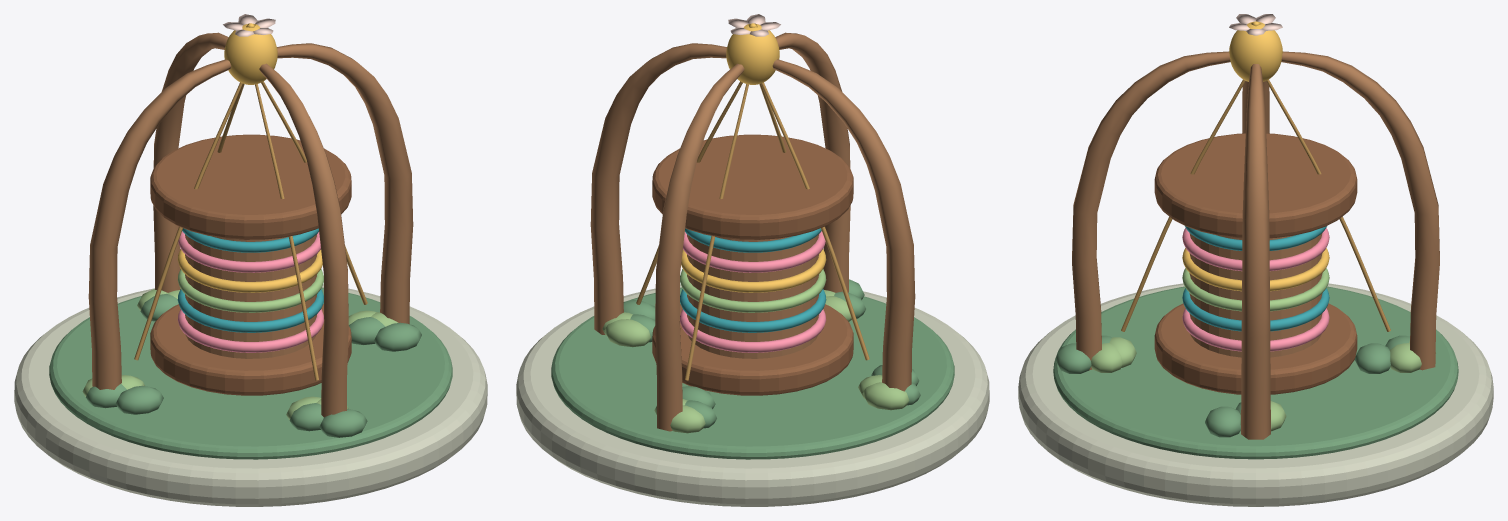
Rendered from hub_center.glb.
3 views of the same model, side by side, from view 1: azimuth 30°, elevation 25°; view 2: azimuth 150°, elevation 25°; view 3: azimuth 270°, elevation 25° (orthographic).
Visible parts, largest first — view 1: Merged Peachwood crate, Merged Orchard sage grass, Merged Worn ivory stepping stone, Merged Bark warm ridges, Merged Pollen warm gold, Merged Coral blush blossom, Merged Aged warm brass, Merged Pond celadon reflection, Merged Leaf sunlit side, Merged Orchard moss tips, Merged Ivory petal tips; view 2: Merged Peachwood crate, Merged Orchard sage grass, Merged Worn ivory stepping stone, Merged Bark warm ridges, Merged Pollen warm gold, Merged Coral blush blossom, Merged Orchard moss tips, Merged Aged warm brass, Merged Pond celadon reflection, Merged Leaf sunlit side, Merged Ivory petal tips; view 3: Merged Peachwood crate, Merged Orchard sage grass, Merged Worn ivory stepping stone, Merged Bark warm ridges, Merged Pollen warm gold, Merged Coral blush blossom, Merged Pond celadon reflection, Merged Orchard moss tips, Merged Aged warm brass, Merged Leaf sunlit side, Merged Ivory petal tips.
Part boxes in pixels (left/top/right/bottom): Merged Peachwood crate: left=88, top=32, right=413, bottom=417; Merged Orchard sage grass: left=49, top=287, right=452, bottom=459; Merged Worn ivory stepping stone: left=14, top=284, right=487, bottom=506; Merged Bark warm ridges: left=150, top=134, right=351, bottom=395; Merged Pollen warm gold: left=177, top=23, right=322, bottom=292; Merged Coral blush blossom: left=177, top=231, right=323, bottom=352; Merged Aged warm brass: left=134, top=81, right=367, bottom=380; Merged Pond celadon reflection: left=177, top=228, right=323, bottom=332; Merged Leaf sunlit side: left=177, top=269, right=323, bottom=312; Merged Orchard moss tips: left=82, top=289, right=398, bottom=419; Merged Ivory petal tips: left=223, top=14, right=275, bottom=36; Merged Peachwood crate: left=590, top=32, right=915, bottom=431; Merged Orchard sage grass: left=551, top=279, right=954, bottom=459; Merged Worn ivory stepping stone: left=516, top=284, right=989, bottom=506; Merged Bark warm ridges: left=652, top=134, right=853, bottom=395; Merged Pollen warm gold: left=681, top=23, right=826, bottom=292; Merged Coral blush blossom: left=680, top=231, right=826, bottom=352; Merged Orchard moss tips: left=602, top=290, right=909, bottom=433; Merged Aged warm brass: left=636, top=81, right=869, bottom=380; Merged Pond celadon reflection: left=680, top=228, right=826, bottom=332; Merged Leaf sunlit side: left=680, top=269, right=826, bottom=312; Merged Ivory petal tips: left=728, top=14, right=780, bottom=36; Merged Peachwood crate: left=1072, top=51, right=1439, bottom=439; Merged Orchard sage grass: left=1053, top=286, right=1458, bottom=459; Merged Worn ivory stepping stone: left=1018, top=283, right=1493, bottom=506; Merged Bark warm ridges: left=1154, top=133, right=1357, bottom=394; Merged Pollen warm gold: left=1182, top=21, right=1329, bottom=291; Merged Coral blush blossom: left=1182, top=228, right=1329, bottom=351; Merged Pond celadon reflection: left=1182, top=226, right=1329, bottom=331; Merged Orchard moss tips: left=1091, top=337, right=1435, bottom=431; Merged Aged warm brass: left=1121, top=79, right=1390, bottom=331; Merged Leaf sunlit side: left=1182, top=268, right=1329, bottom=311; Merged Ivory petal tips: left=1229, top=14, right=1282, bottom=35.
Bounding box in the file's own units: 3 × 2.72 × 3.
